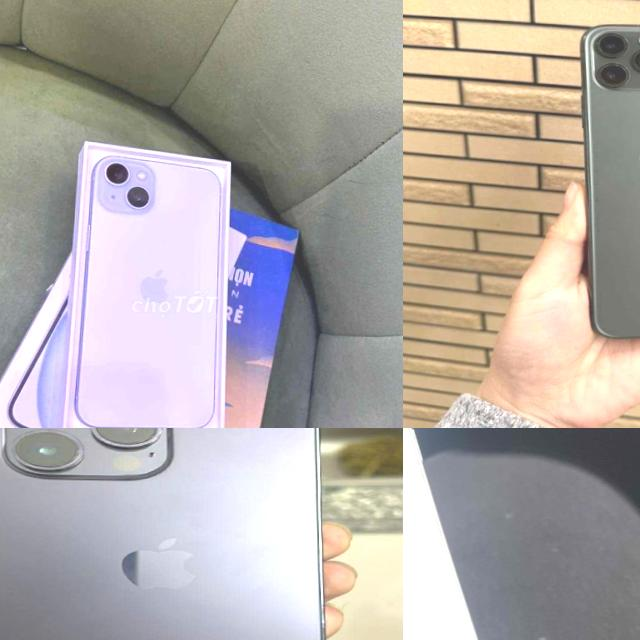gen_11: (569, 17, 640, 353)
gen_15: (0, 428, 336, 640), (54, 115, 232, 428)
gen_7_8: (403, 428, 514, 640)
scratch: (591, 27, 640, 88)
